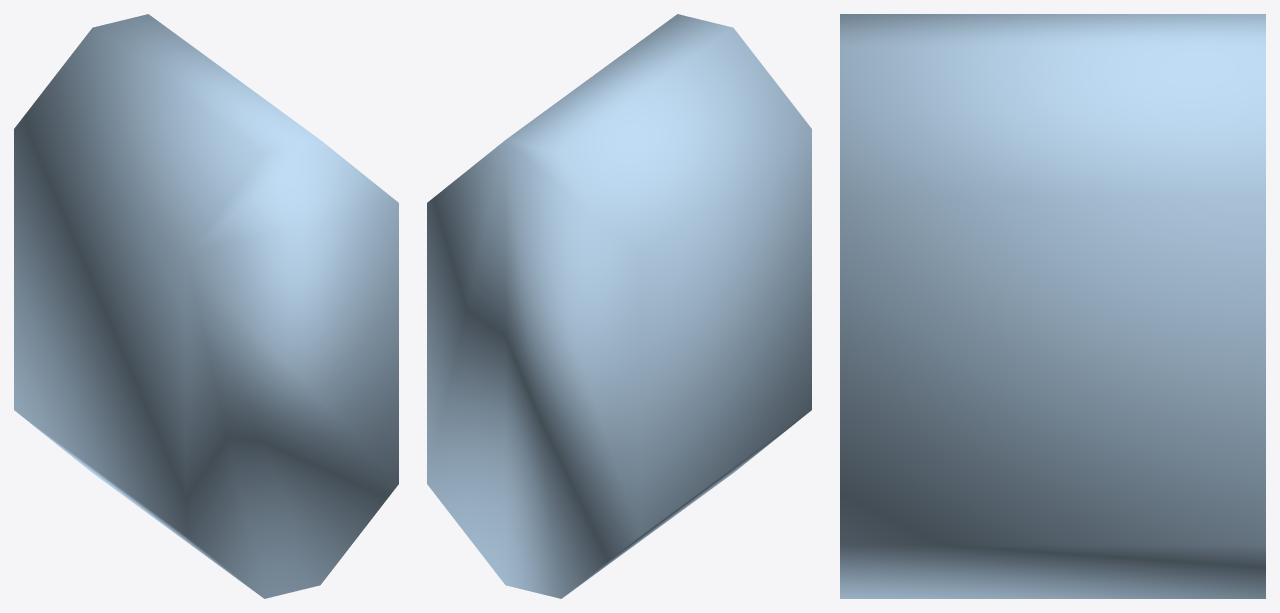
The model's file is moonstone.glb.
3 renders of one model, left to right at view 1: azimuth 30°, elevation 25°; view 2: azimuth 150°, elevation 25°; view 3: azimuth 270°, elevation 25°, orthographic. The views are drawn at different scales.
Visible parts, largest first — view 1: moonstone; view 2: moonstone; view 3: moonstone.
Boxes of the visible parts, x1,y1,x2,y2 form: moonstone: [14, 14, 398, 598]; moonstone: [427, 14, 811, 598]; moonstone: [840, 14, 1265, 598].
Size of the model in its own units: 1 by 2 by 1.4.
